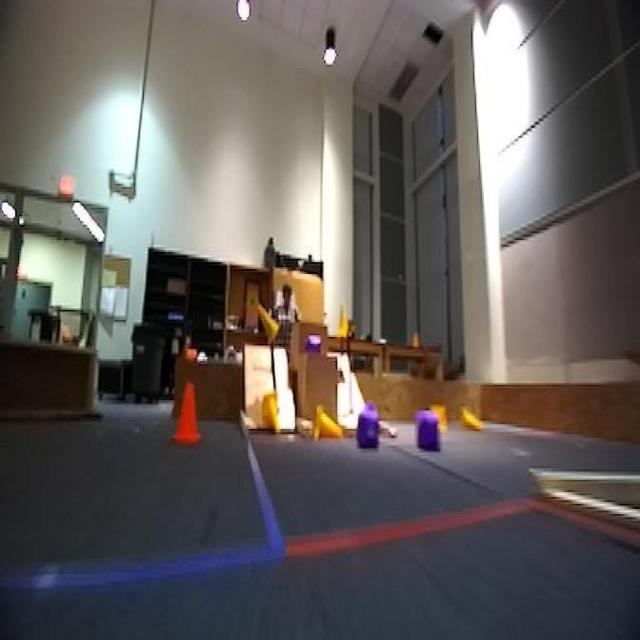frc_cone: (312, 403, 344, 446), (258, 390, 285, 434), (256, 306, 281, 348), (428, 402, 448, 446), (333, 306, 352, 349), (460, 407, 484, 437)
frc_cube: (413, 407, 444, 458), (354, 408, 379, 453), (304, 333, 326, 358)
